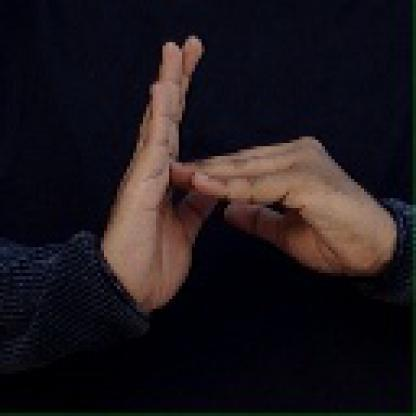Z: (105, 30, 338, 304)
